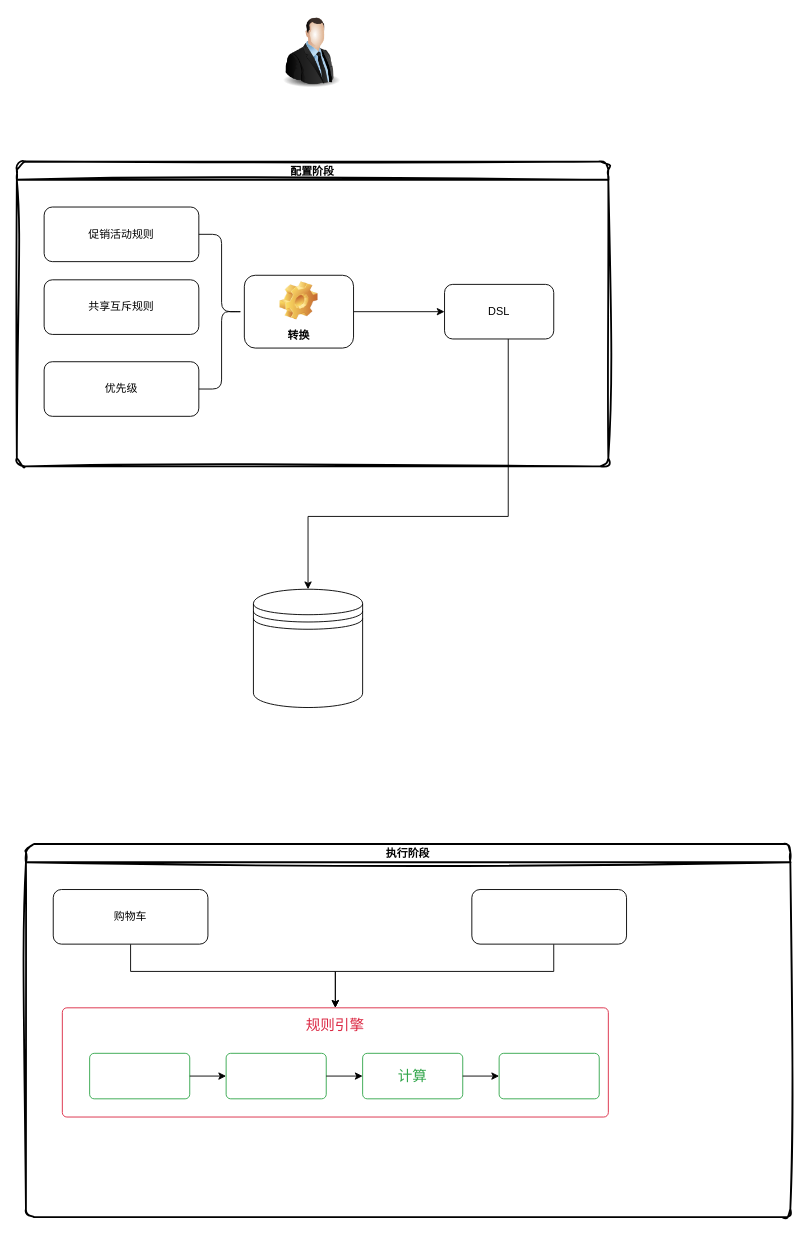
Image size: 806x1233. Some labels were removed from this diagram. Each missing label, with the centre of its shape:
下单页面: [549,916]
优惠分摊: [548,1075]
加载规则: [139,1075]
排列组合: [275,1075]
规则数据库: [308,648]
